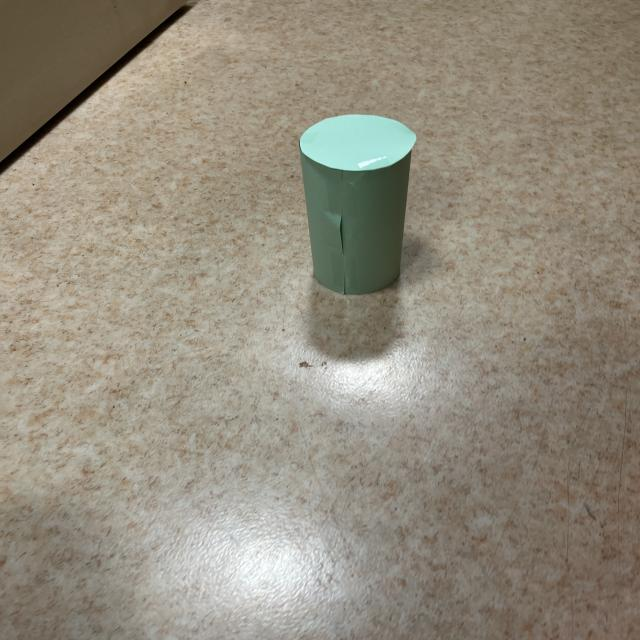meta: (299, 114, 416, 294)
